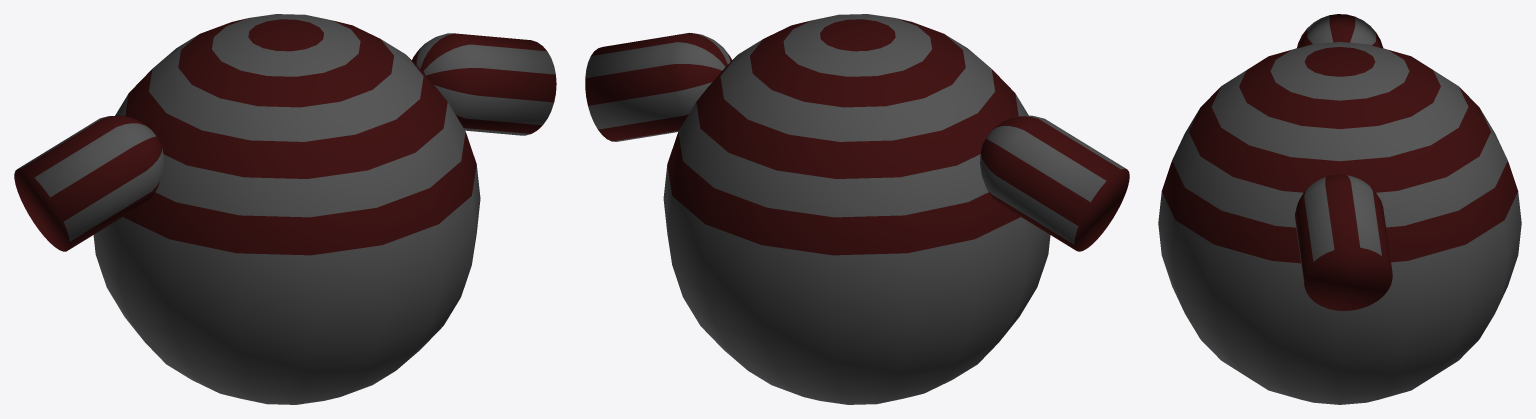
Rendered from RAGDOLL.dae.
3 renders of one model, left to right at view 1: azimuth 30°, elevation 25°; view 2: azimuth 150°, elevation 25°; view 3: azimuth 270°, elevation 25°, orthographic. The views are drawn at different scales.
Parts seen in each view (by area): view 1: Target.001; view 2: Target.001; view 3: Target.001.
Boxes of the visible parts, x1,y1,x2,y2 form: Target.001: [14, 14, 556, 404]; Target.001: [585, 14, 1129, 404]; Target.001: [1158, 14, 1521, 404].
Bounding box in the file's own units: 3.04 × 2 × 2.
